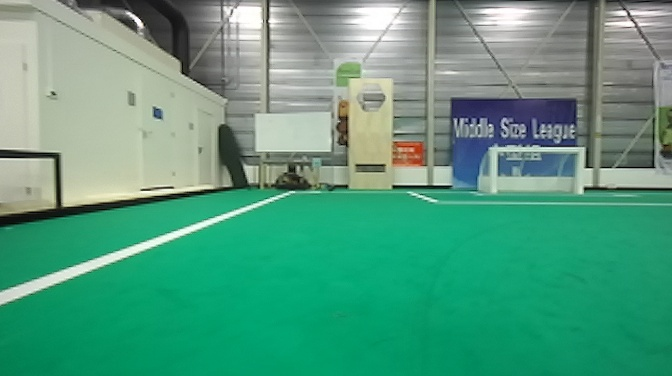goalpost: (571, 142, 590, 200), (488, 143, 503, 196)
